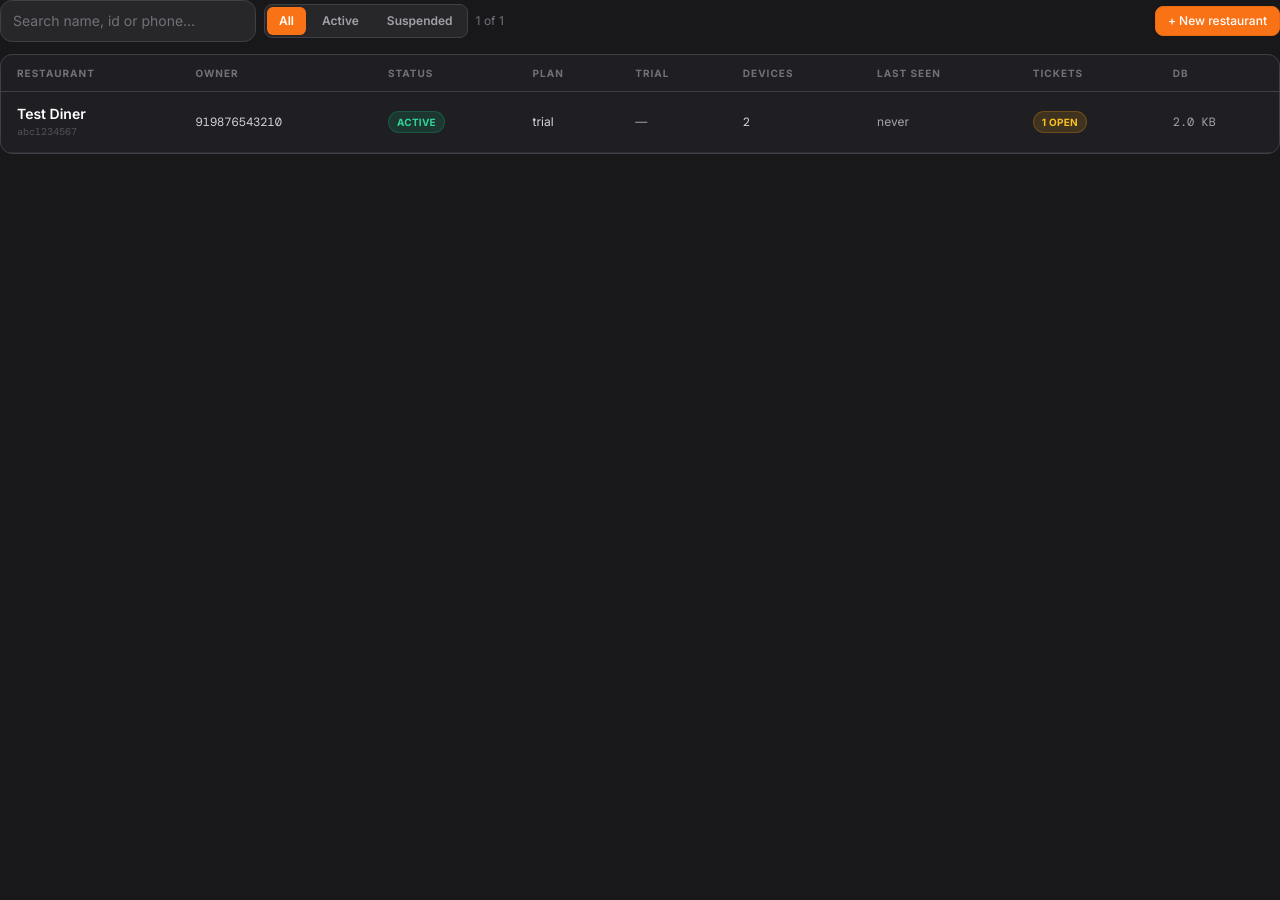
creating shows the generated owner password and PIN once, and refreshes the list
Check: the text "Test Diner" is shown, box [17,104,86,124]
Click the button "+ New restaurant": (1217, 21) [1155,6,1279,36]
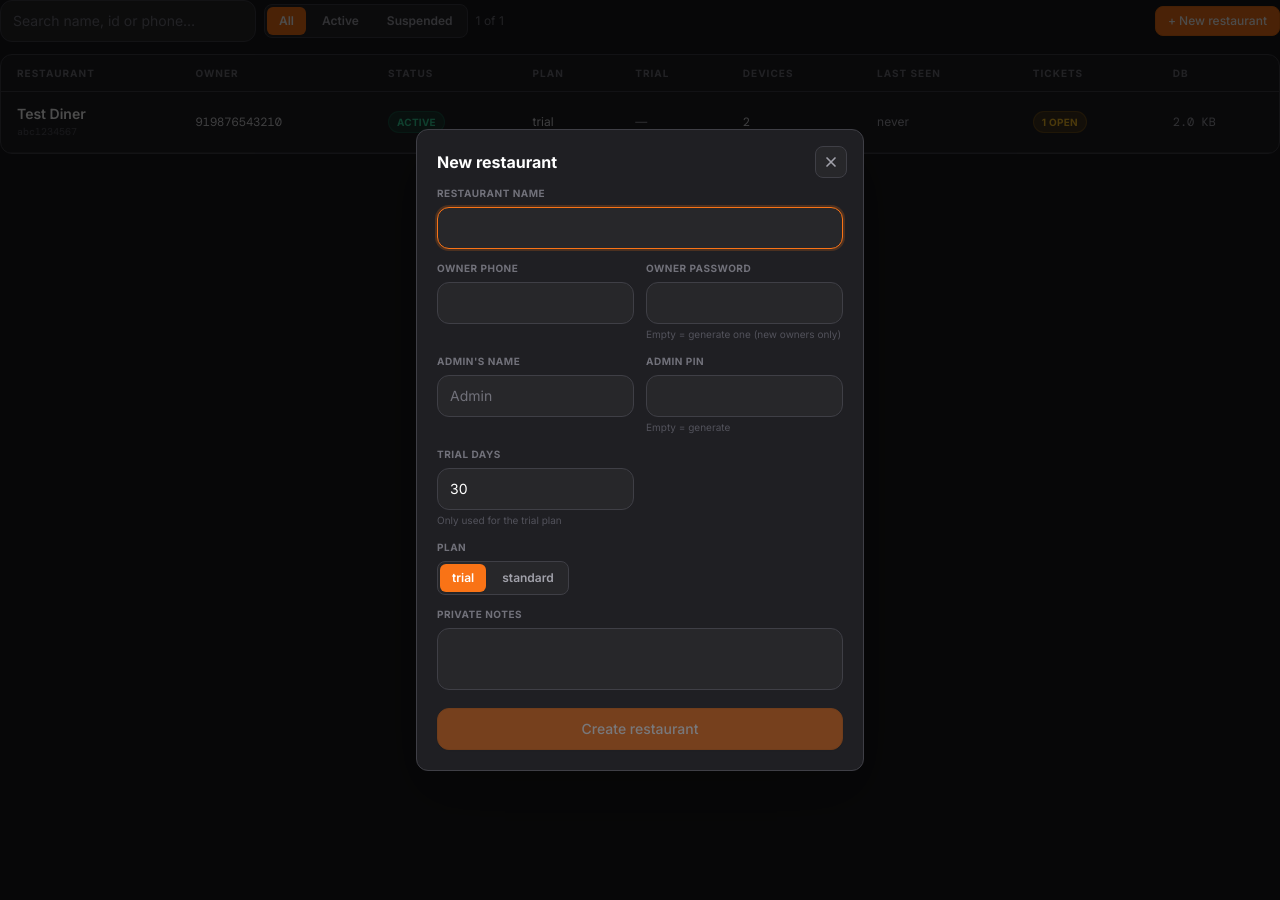
Check: the button "Create restaurant" is disabled, box [437,708,843,750]
In the field labelled "Restaurant name": (640, 228) [437,207,843,249], type "Second"
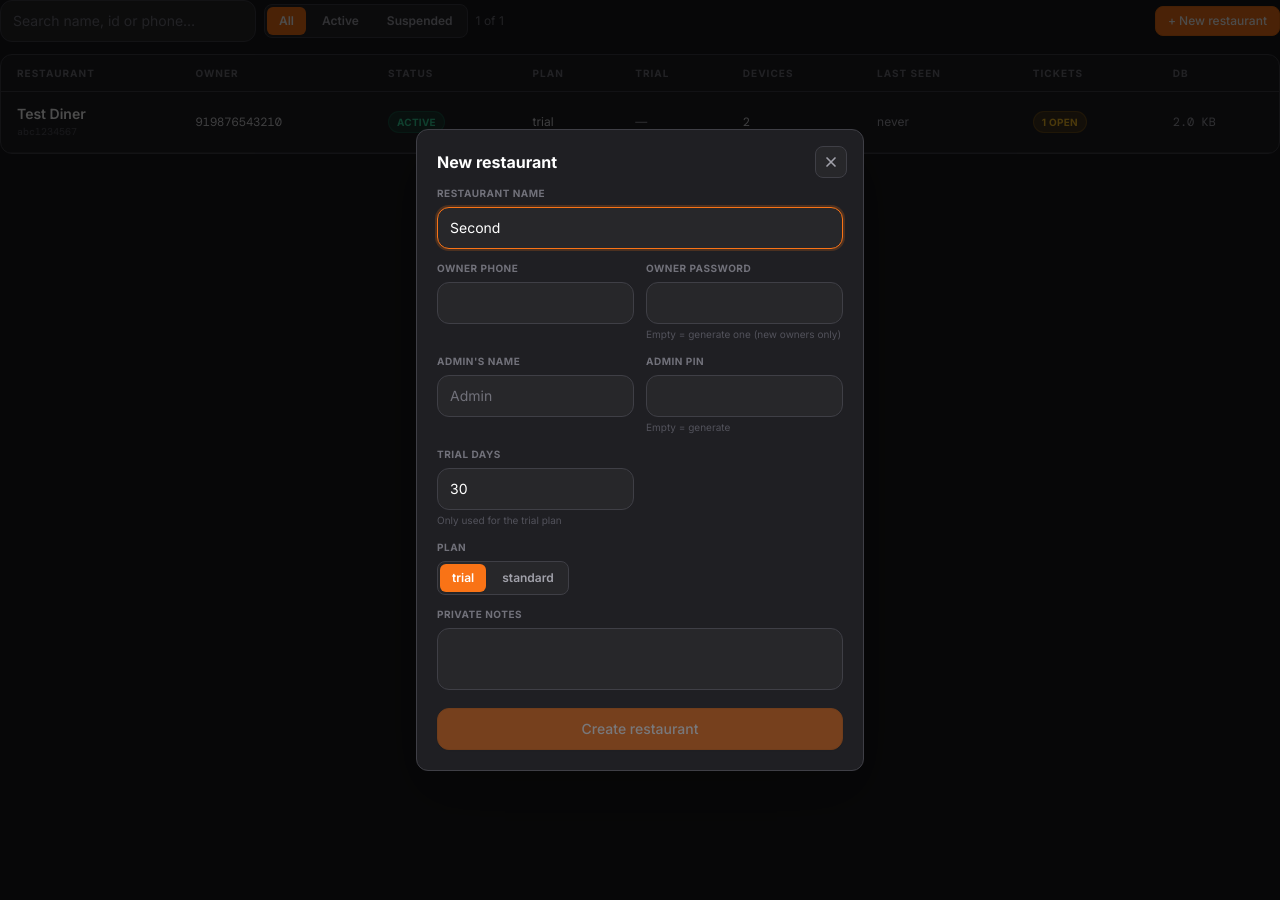
In the field labelled "Owner phone": (536, 303) [437,282,634,324], type "9123456780"
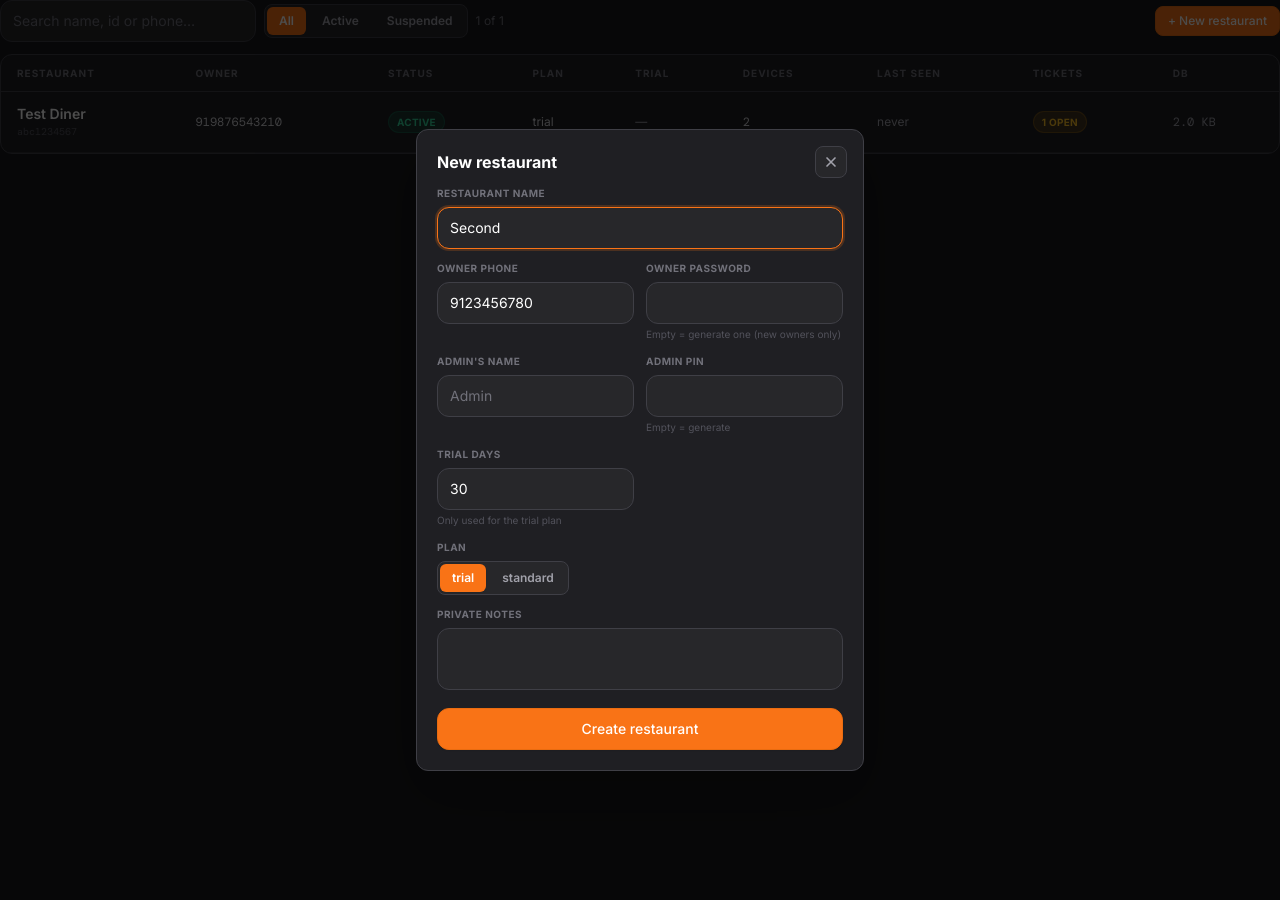
Click the button "Create restaurant": (640, 729) [437,708,843,750]
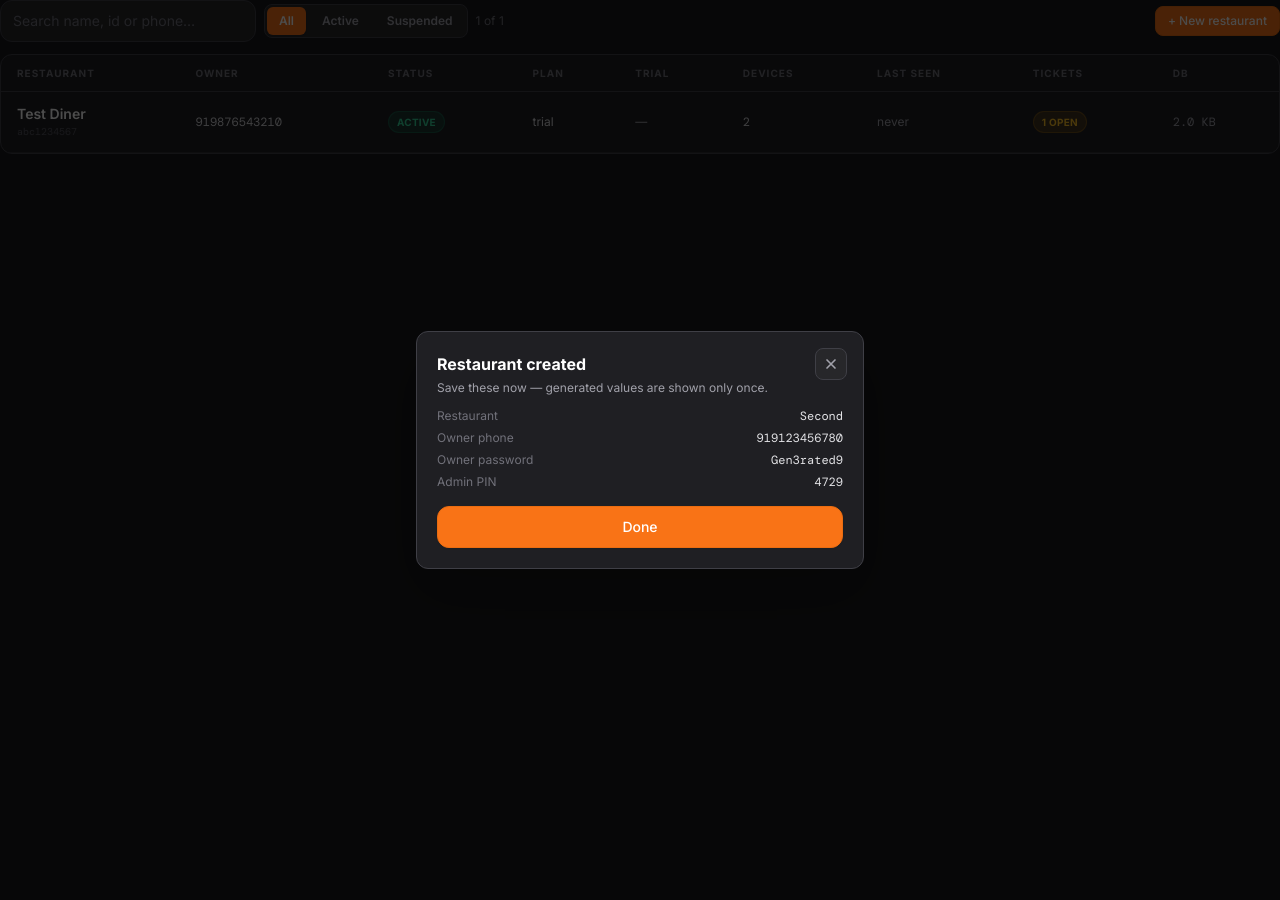
Check: the text "Gen3rated9" is shown, box [771,452,843,468]
Check: the text "4729" is shown, box [814,474,843,490]
